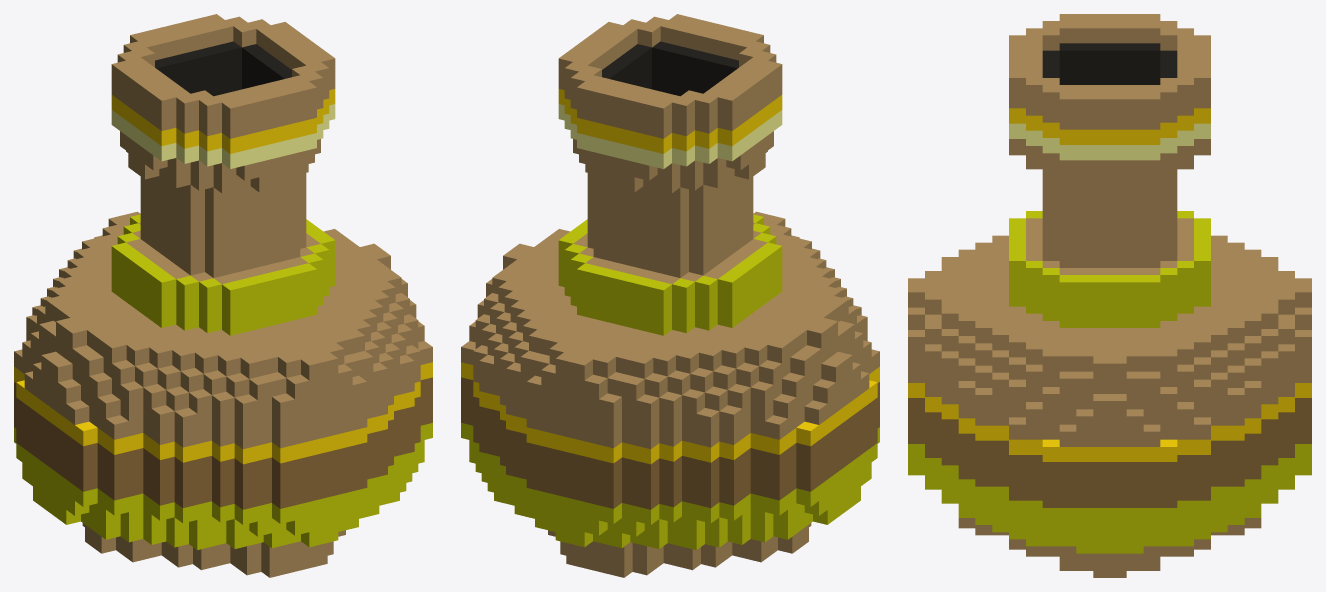
Rendered from Medieval Assets-56-Decoration - Desert - Urn - Variant5.obj.
The picture shows the model from 3 angles, left to right: view 1: azimuth 30°, elevation 25°; view 2: azimuth 150°, elevation 25°; view 3: azimuth 270°, elevation 25°; orthographic projection.
Parts seen in each view (by area): view 1: Decoration - Desert - Urn - Variant5; view 2: Decoration - Desert - Urn - Variant5; view 3: Decoration - Desert - Urn - Variant5.
Boxes of the visible parts, box(x1,y1,x2,y2) form: Decoration - Desert - Urn - Variant5: box(14, 14, 432, 577); Decoration - Desert - Urn - Variant5: box(461, 14, 879, 577); Decoration - Desert - Urn - Variant5: box(908, 14, 1311, 577).
Bounding box in the file's own units: 2.4 × 3 × 2.4.
Materials: 1 (1 with a texture image).
